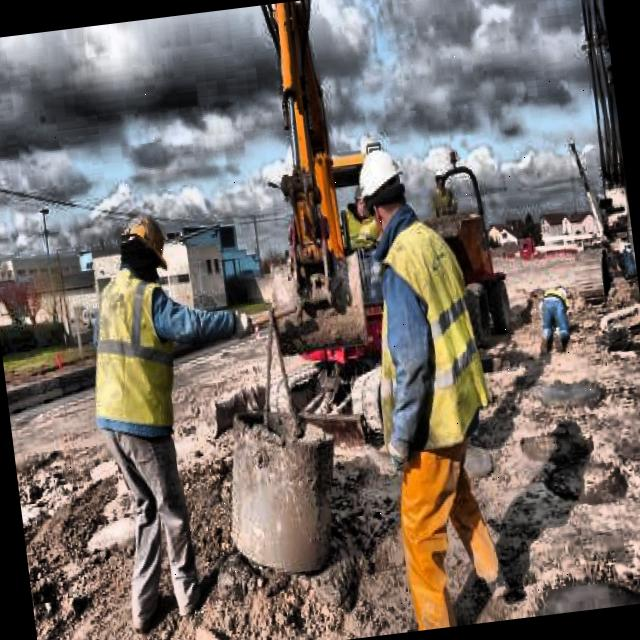helmet: (355, 144, 410, 230), (118, 209, 168, 271)
